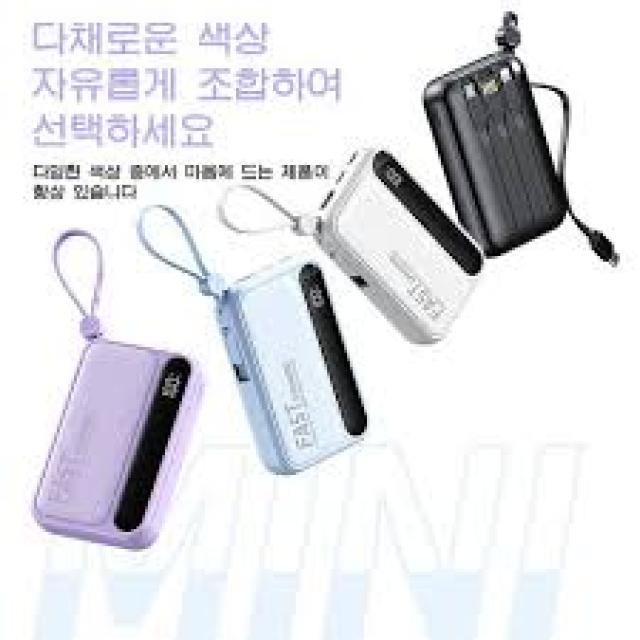power_bank: (32, 331, 210, 557), (217, 247, 374, 478), (320, 140, 485, 344), (421, 54, 573, 260)
